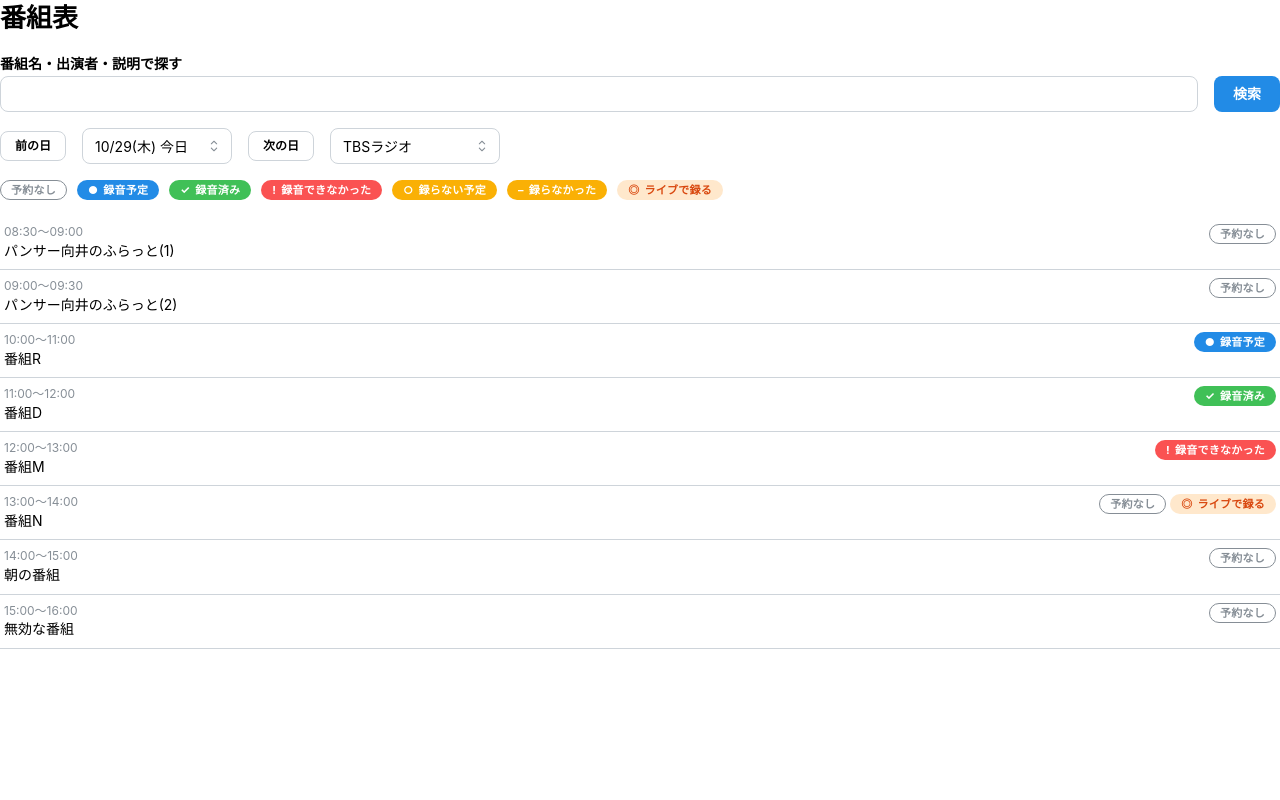
Test case: GuidePage の検索 › 検索結果から放送回の詳細を開ける
expect the element with test id "guide-list" is shown: met, box top-left (0, 216), bottom-right (1279, 649)
Type "ふらっと" into the field labelled "番組名・出演者・説明で探す". click: point(599, 94)
box: top-left (0, 76), bottom-right (1198, 112)
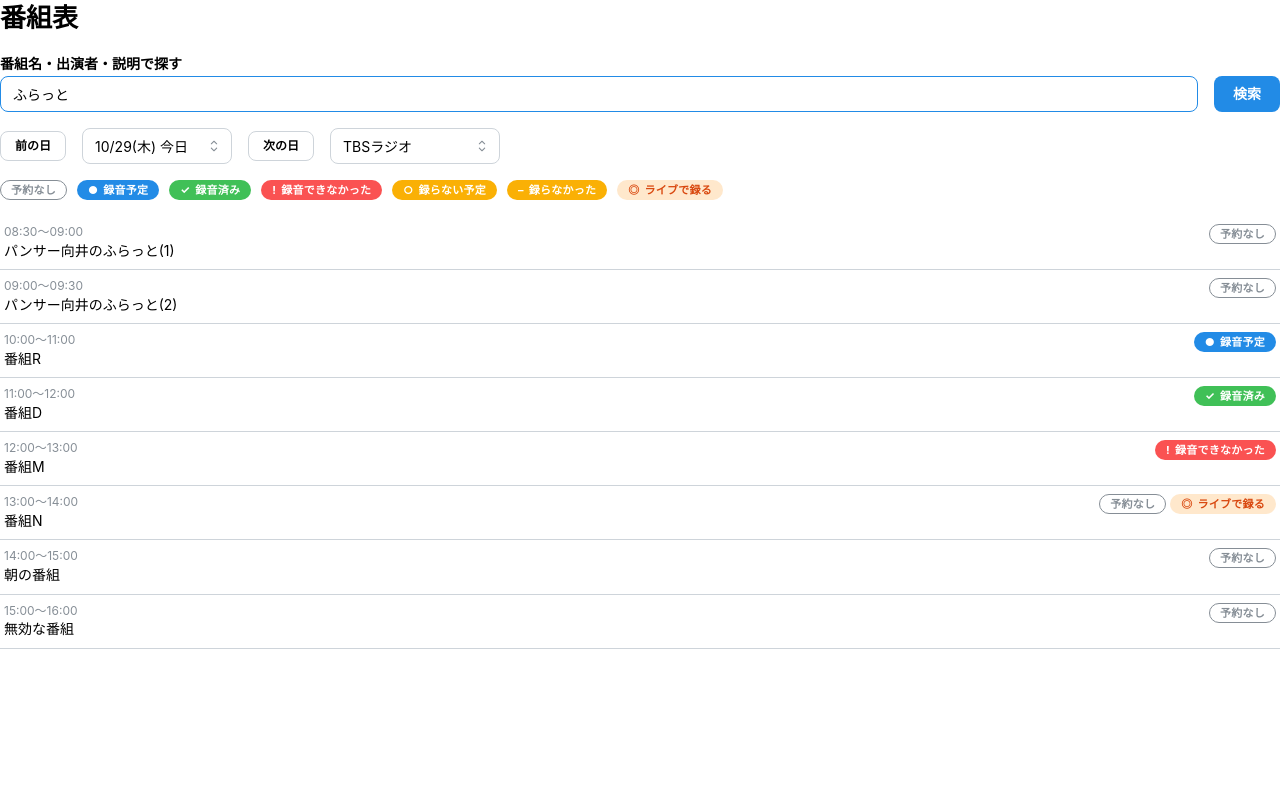
Click the button "検索". click: point(1247, 94)
box: top-left (1214, 76), bottom-right (1279, 112)
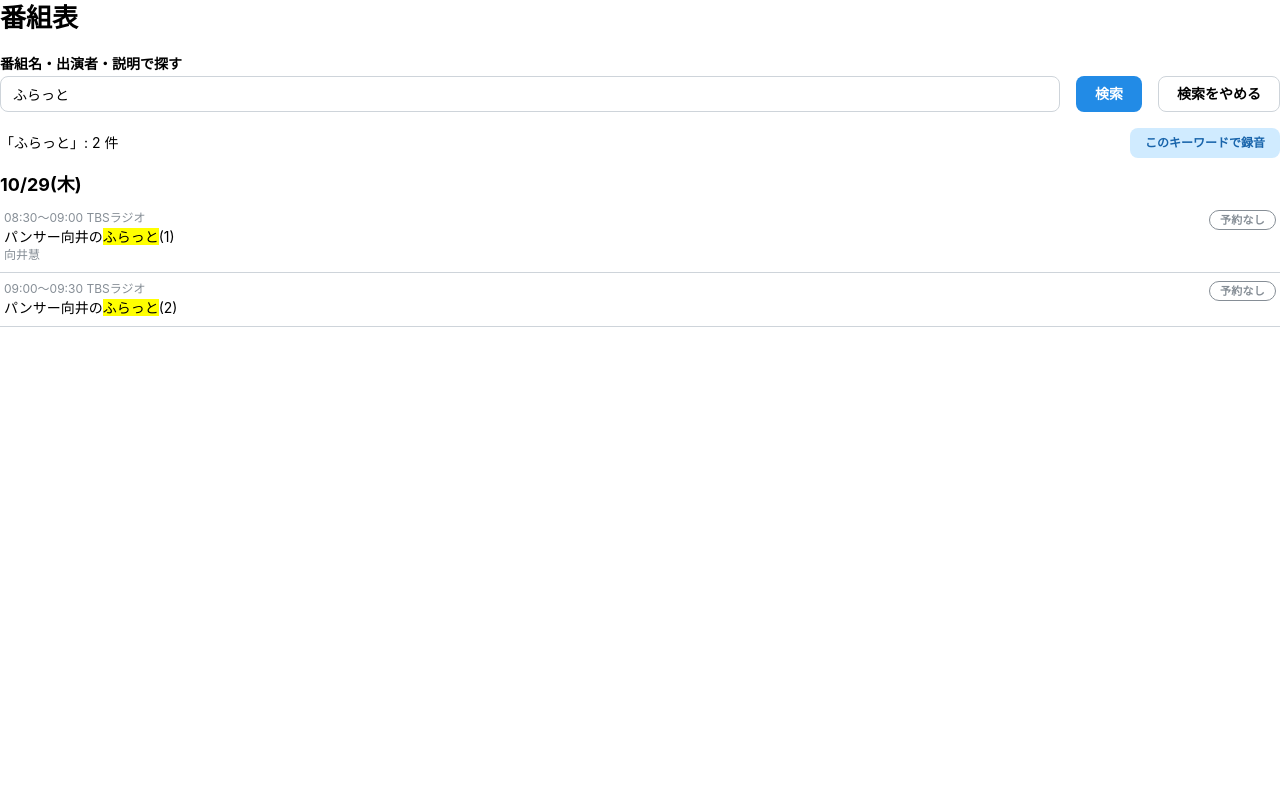
Click the button "08:30〜09:00 TBSラジオ パンサー向井のふらっと(1) 向井慧 予約なし". click: point(75, 217)
box: top-left (0, 202), bottom-right (1279, 273)
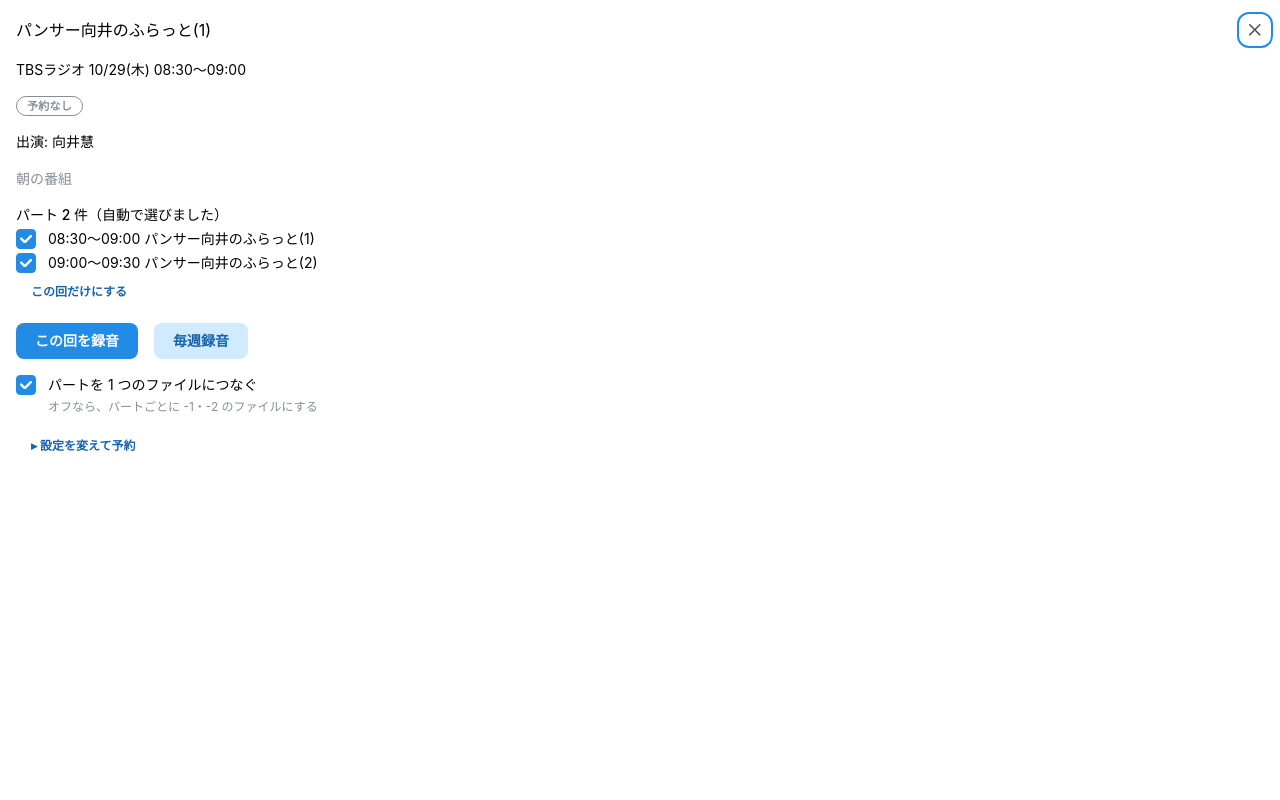
expect the text "出演: 向井慧" is shown: met, box top-left (16, 133), bottom-right (94, 150)
expect the text "朝の番組" is shown: met, box top-left (16, 170), bottom-right (72, 187)
expect the text "予約なし" is shown: met, box top-left (27, 97), bottom-right (72, 115)
